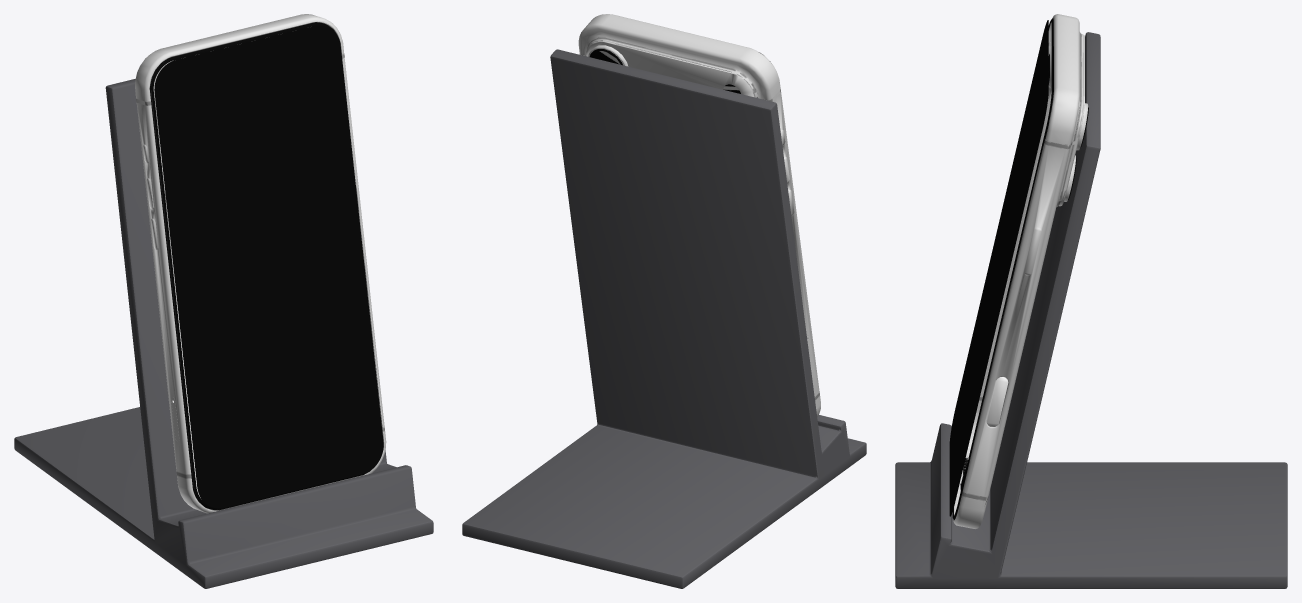
Rendered from house-of-hex.mobile.glb.
3 views of the same model, side by side, from view 1: azimuth 30°, elevation 25°; view 2: azimuth 150°, elevation 25°; view 3: azimuth 270°, elevation 25° (orthographic). The views are drawn at different scales.
Parts seen in each view (by area): view 1: screen, stand, phone; view 2: stand, phone; view 3: stand, phone, screen.
Boxes of the visible parts, <box> form: screen: <box>154,25,383,508</box>; stand: <box>14,79,433,588</box>; phone: <box>135,14,386,513</box>; stand: <box>462,49,866,588</box>; phone: <box>578,14,820,416</box>; stand: <box>895,32,1287,588</box>; phone: <box>952,14,1088,528</box>; screen: <box>949,20,1048,516</box>.
Size of the model in its own units: 0.09 by 0.1758 by 0.13.
3 materials, 2 textured.
